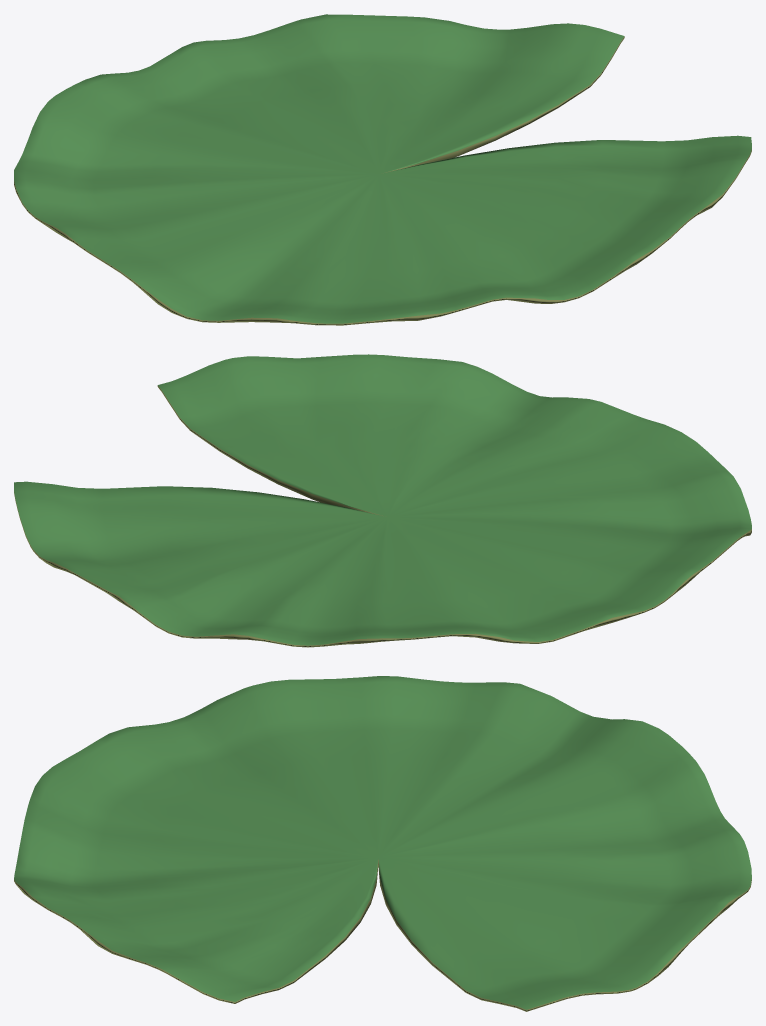
The model's file is Lilypad.fbx.
The picture shows the model from 3 angles, top to bottom: view 1: azimuth 30°, elevation 25°; view 2: azimuth 150°, elevation 25°; view 3: azimuth 270°, elevation 25°; orthographic projection. The views are drawn at different scales.
Parts seen in each view (by area): view 1: Lily_Pad:lilyPad_seed7; view 2: Lily_Pad:lilyPad_seed7; view 3: Lily_Pad:lilyPad_seed7.
Part boxes in pixels (bbox=[...]): Lily_Pad:lilyPad_seed7: bbox=[14, 14, 751, 325]; Lily_Pad:lilyPad_seed7: bbox=[14, 354, 751, 647]; Lily_Pad:lilyPad_seed7: bbox=[14, 676, 751, 1011].
Bounding box in the file's own units: 12 × 0.7528 × 11.48.
